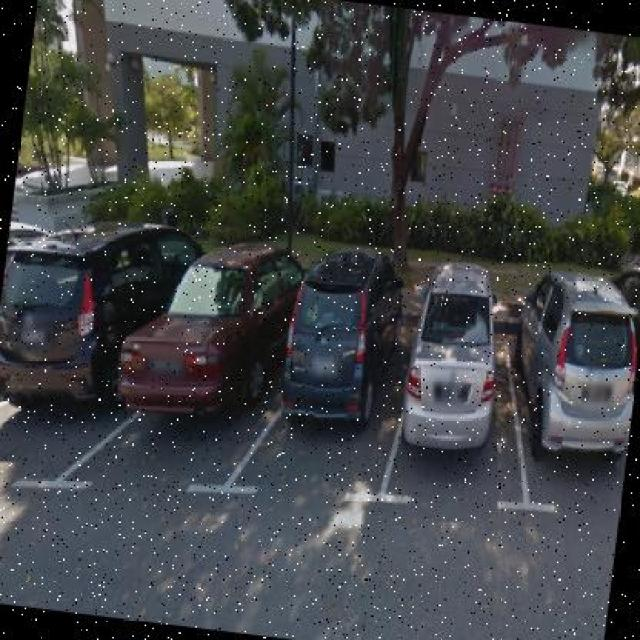Car: (103, 194, 310, 451), (1, 180, 204, 417), (257, 221, 406, 463), (505, 250, 640, 459), (396, 244, 515, 460)
